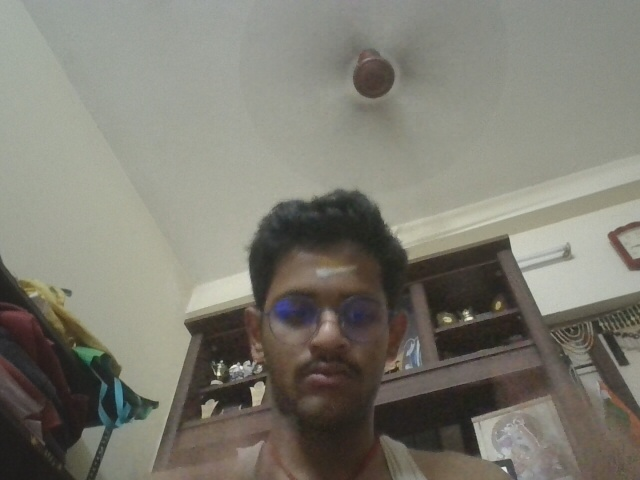real: (249, 246, 411, 408)
